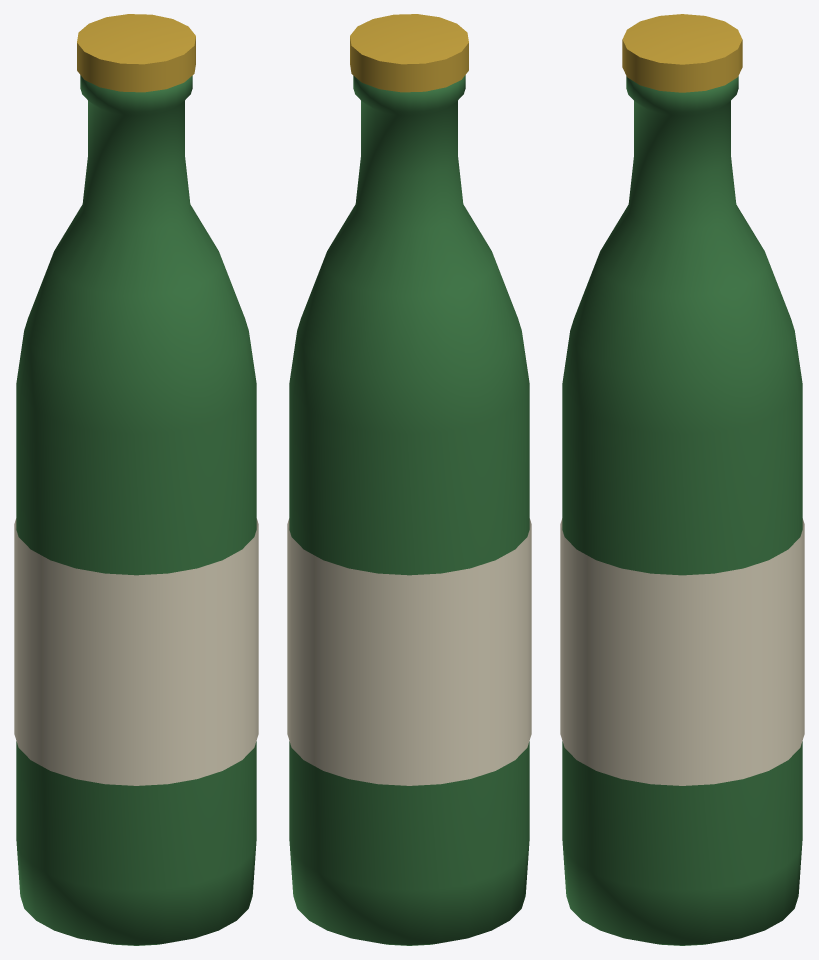
The model's file is item_beer_green.fbx.
3 views of the same model, side by side, from view 1: azimuth 30°, elevation 25°; view 2: azimuth 150°, elevation 25°; view 3: azimuth 270°, elevation 25° (orthographic).
Visible parts, largest first — view 1: item_beer_green; view 2: item_beer_green; view 3: item_beer_green.
Boxes of the visible parts, x1,y1,x2,y2 form: item_beer_green: [14, 14, 258, 945]; item_beer_green: [287, 14, 531, 945]; item_beer_green: [560, 14, 804, 945].
Size of the model in its own units: 0.063 by 0.249 by 0.063.
